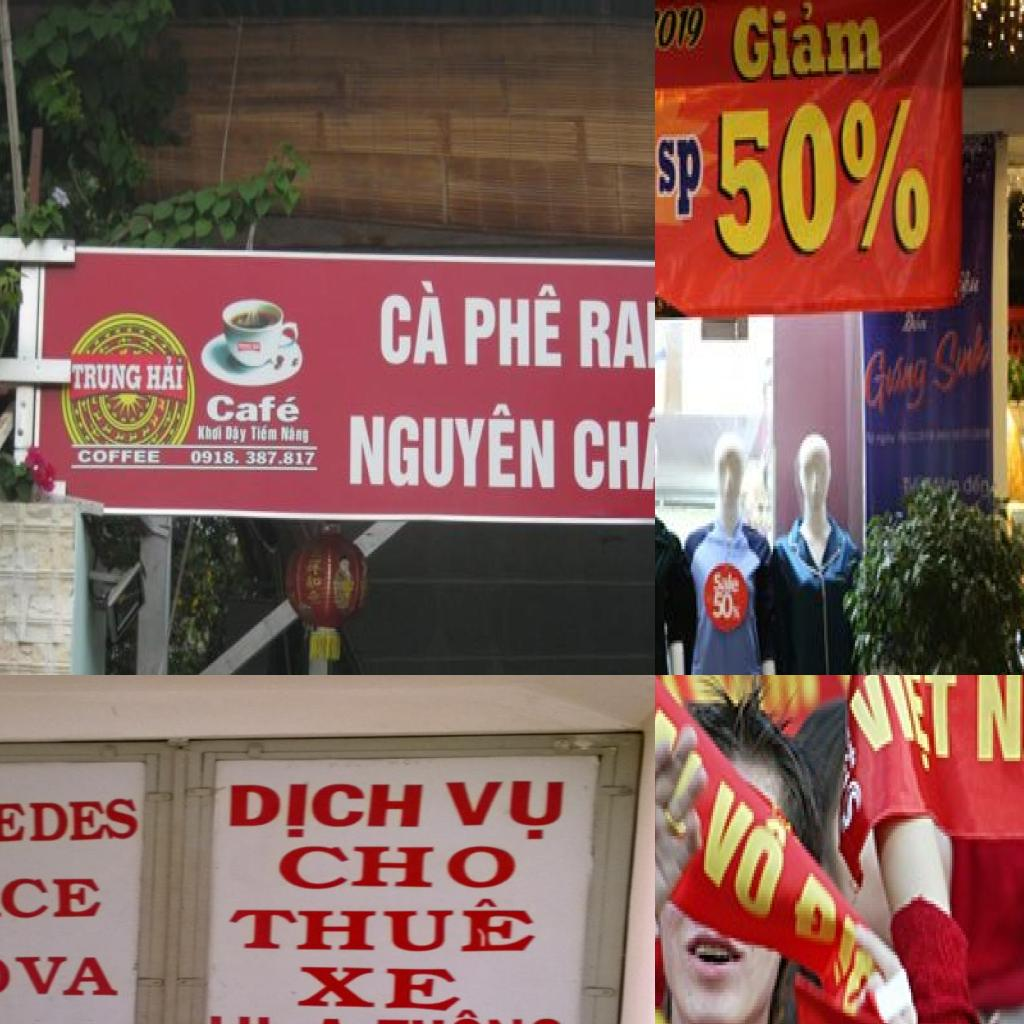text: (224, 895, 550, 954), (350, 404, 556, 489), (838, 86, 935, 266), (697, 775, 797, 928), (842, 675, 963, 788), (732, 0, 885, 88), (223, 782, 433, 840), (776, 91, 843, 263), (273, 845, 518, 892), (717, 106, 778, 266), (786, 870, 865, 993), (440, 780, 577, 844), (464, 281, 562, 369), (290, 967, 462, 1012), (574, 398, 655, 492), (0, 795, 141, 845), (683, 675, 824, 724), (379, 279, 450, 368), (579, 297, 655, 371), (655, 125, 708, 228), (0, 953, 124, 997), (932, 317, 993, 406), (862, 346, 930, 420), (972, 675, 1024, 767), (0, 877, 106, 921), (310, 1010, 567, 1024), (206, 397, 302, 424), (655, 0, 709, 48), (71, 364, 144, 394), (190, 450, 317, 466), (838, 782, 866, 840), (145, 356, 185, 392), (76, 450, 161, 465), (203, 1012, 292, 1024), (712, 592, 742, 623), (712, 569, 742, 598), (224, 424, 248, 446), (280, 426, 309, 444), (196, 424, 224, 441), (250, 424, 278, 441)
